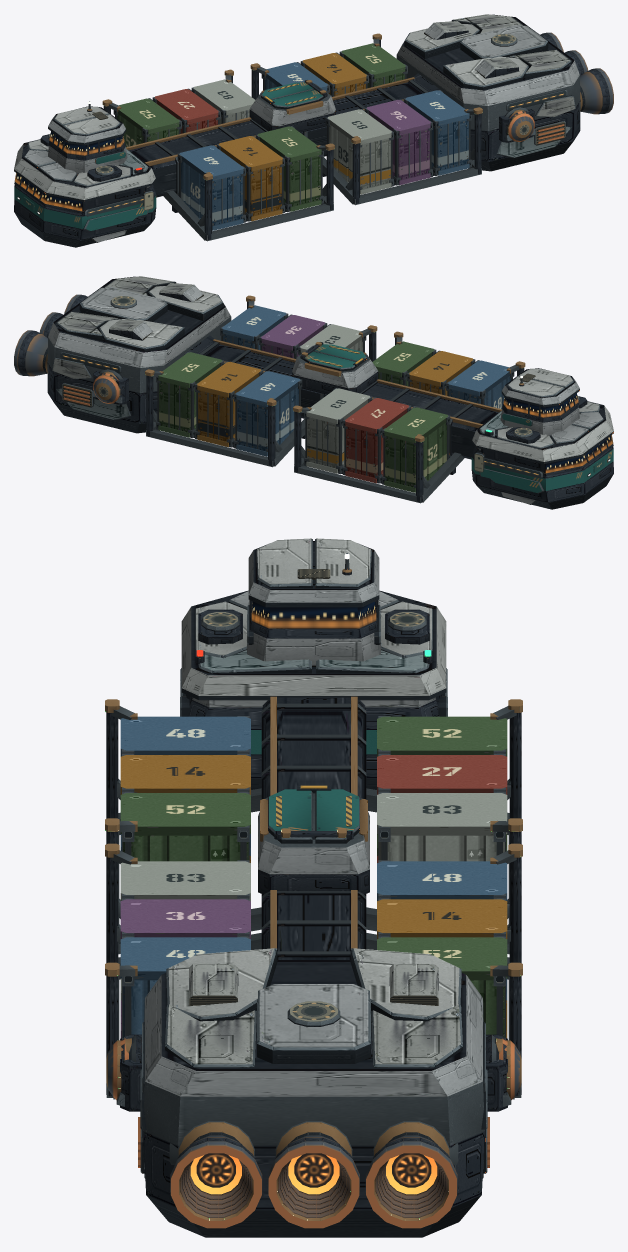
Rendered from caravan.glb.
3 renders of one model, top to bottom at view 1: azimuth 30°, elevation 25°; view 2: azimuth 150°, elevation 25°; view 3: azimuth 270°, elevation 25°, orthographic. The views are drawn at different scales.
Visible parts, largest first — view 1: hull plating, Freight shell 1.1, Freight shell 3.1, drone_hangar plating, Freight shell 3.2, Freight shell 1.2, Freight shell 3.3, Freight shell 1.3, Freight shell 2.1, Freight shell 2.2, Freight shell 4.2, Freight shell 4.3 (+10 smaller); view 2: hull plating, Freight shell 2.1, Freight shell 4.1, drone_hangar plating, Freight shell 4.2, Freight shell 2.2, Freight shell 4.3, Freight shell 2.3, Freight shell 1.1, Freight shell 1.2, Freight shell 3.2, Freight shell 3.3 (+10 smaller); view 3: hull plating, drone_hangar plating, Freight shell 1.3, Freight shell 2.3, engine_port plating, engine_starboard plating, engine_centre plating, Freight shell 3.2, Freight shell 4.2, Freight shell 1.1, Freight shell 2.1, Freight shell 3.1 (+7 smaller).
Boxes of the visible parts, <box> form: hull plating: <box>14,14,580,247</box>; Freight shell 1.1: <box>179,145,243,230</box>; Freight shell 3.1: <box>328,109,391,194</box>; drone_hangar plating: <box>249,80,335,132</box>; Freight shell 3.2: <box>366,99,430,185</box>; Freight shell 1.2: <box>218,136,282,221</box>; Freight shell 3.3: <box>406,90,469,175</box>; Freight shell 1.3: <box>257,126,321,211</box>; Freight shell 2.1: <box>117,98,179,147</box>; Freight shell 2.2: <box>154,89,218,133</box>; Freight shell 4.2: <box>302,53,366,96</box>; Freight shell 4.3: <box>341,43,405,87</box>; hull plating: <box>47,276,613,509</box>; Freight shell 2.1: <box>384,407,448,492</box>; Freight shell 4.1: <box>236,371,299,456</box>; drone_hangar plating: <box>292,342,378,394</box>; Freight shell 4.2: <box>197,361,261,447</box>; Freight shell 2.2: <box>345,398,409,483</box>; Freight shell 4.3: <box>158,352,221,437</box>; Freight shell 2.3: <box>306,388,370,473</box>; Freight shell 1.1: <box>448,360,510,409</box>; Freight shell 1.2: <box>409,351,473,395</box>; Freight shell 3.2: <box>261,315,325,358</box>; Freight shell 3.3: <box>222,305,286,349</box>; hull plating: <box>105,538,522,1237</box>; drone_hangar plating: <box>258,785,369,894</box>; Freight shell 1.3: <box>120,793,250,861</box>; Freight shell 2.3: <box>377,793,507,861</box>; engine_port plating: <box>169,1121,262,1228</box>; engine_starboard plating: <box>365,1121,458,1228</box>; engine_centre plating: <box>268,1121,359,1228</box>; Freight shell 3.2: <box>120,899,250,1038</box>; Freight shell 4.2: <box>377,899,507,1038</box>; Freight shell 1.1: <box>120,716,250,855</box>; Freight shell 2.1: <box>377,716,507,855</box>; Freight shell 3.1: <box>120,861,250,1000</box>.
Bounding box in the file's own units: 2 × 0.4388 × 0.6581.
Materials: 2 (2 with a texture image).
